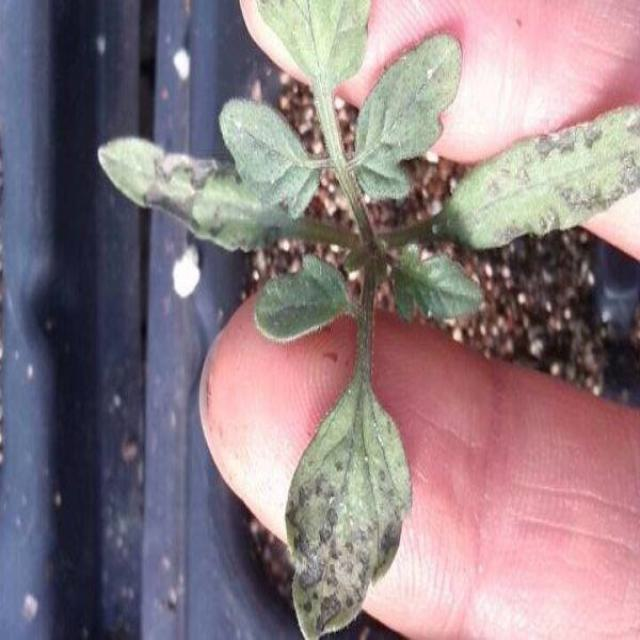Late_blight: (272, 397, 407, 640), (445, 101, 640, 250), (139, 152, 219, 231)
